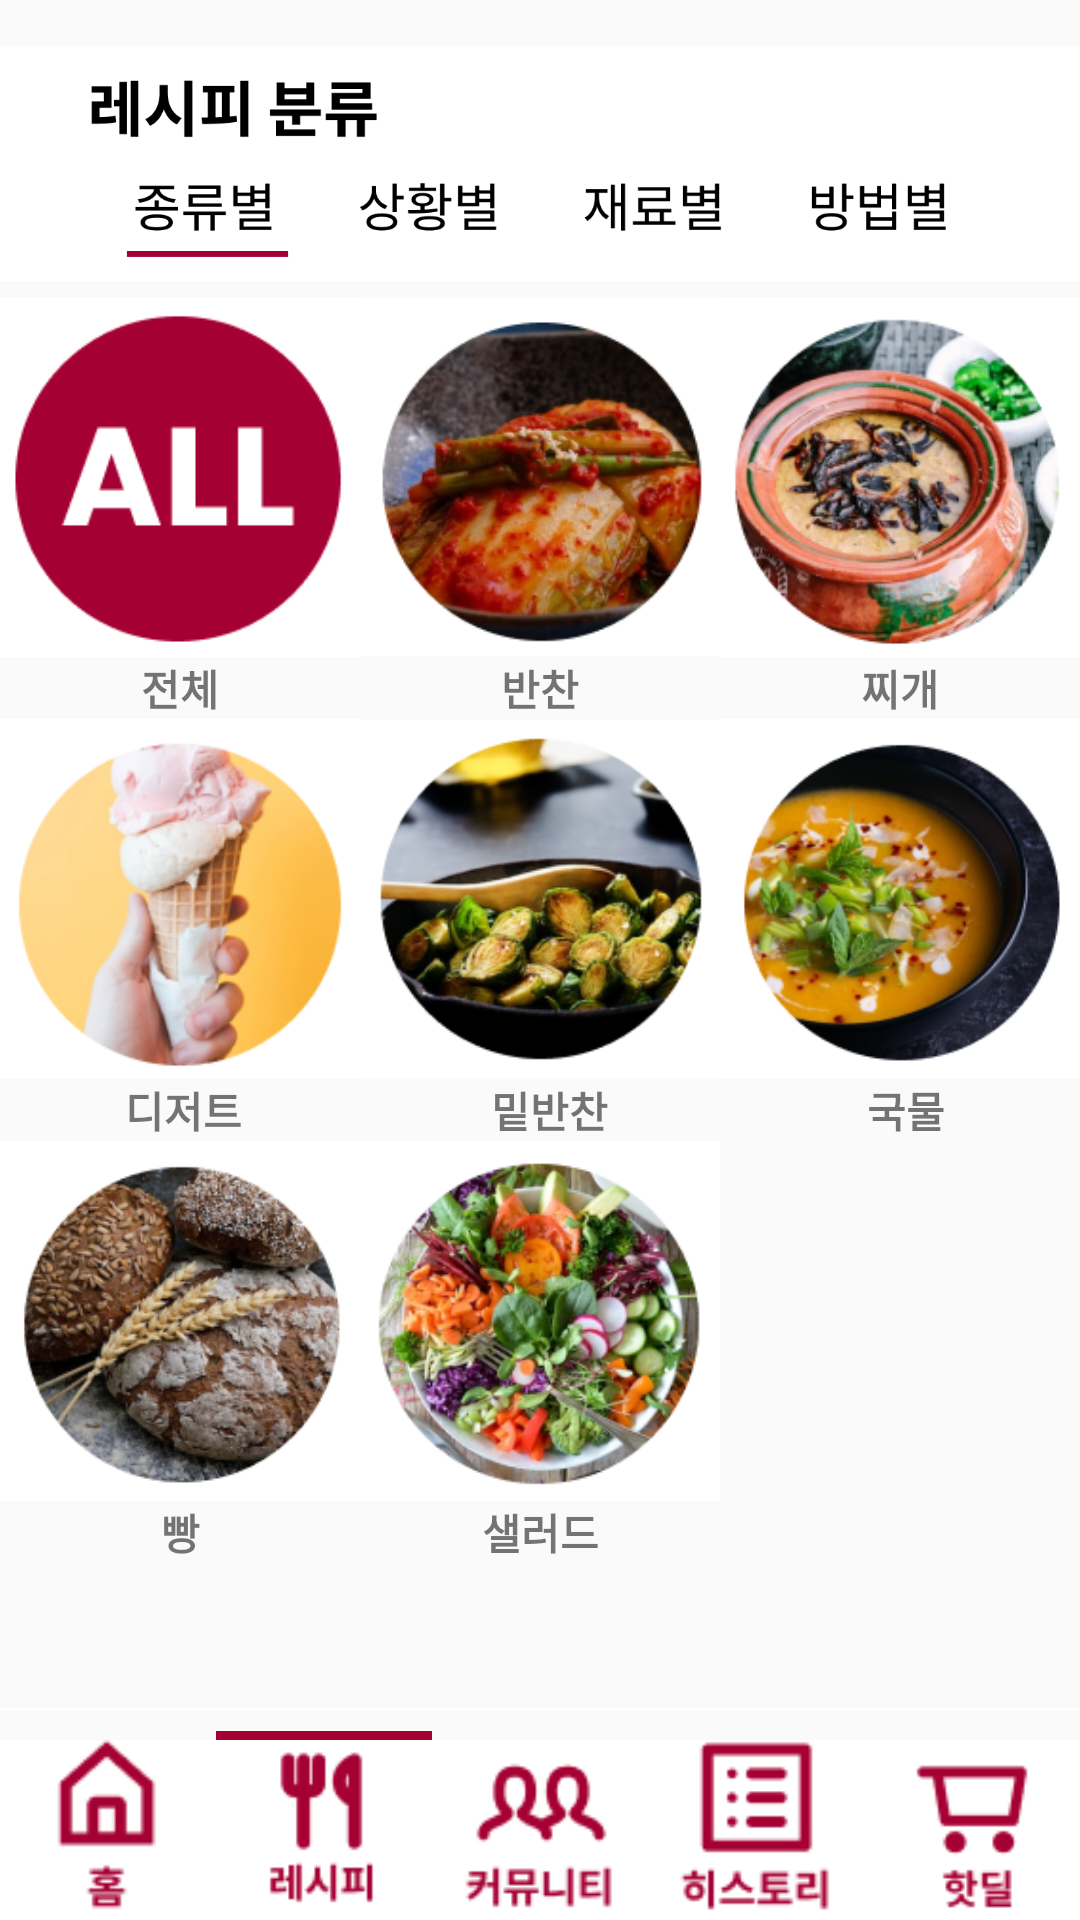

Named icons in this screenshot (1080*1920) and their centers, [x,y]:
bottom store: [972,1836]
bottom talk: [538,1835]
